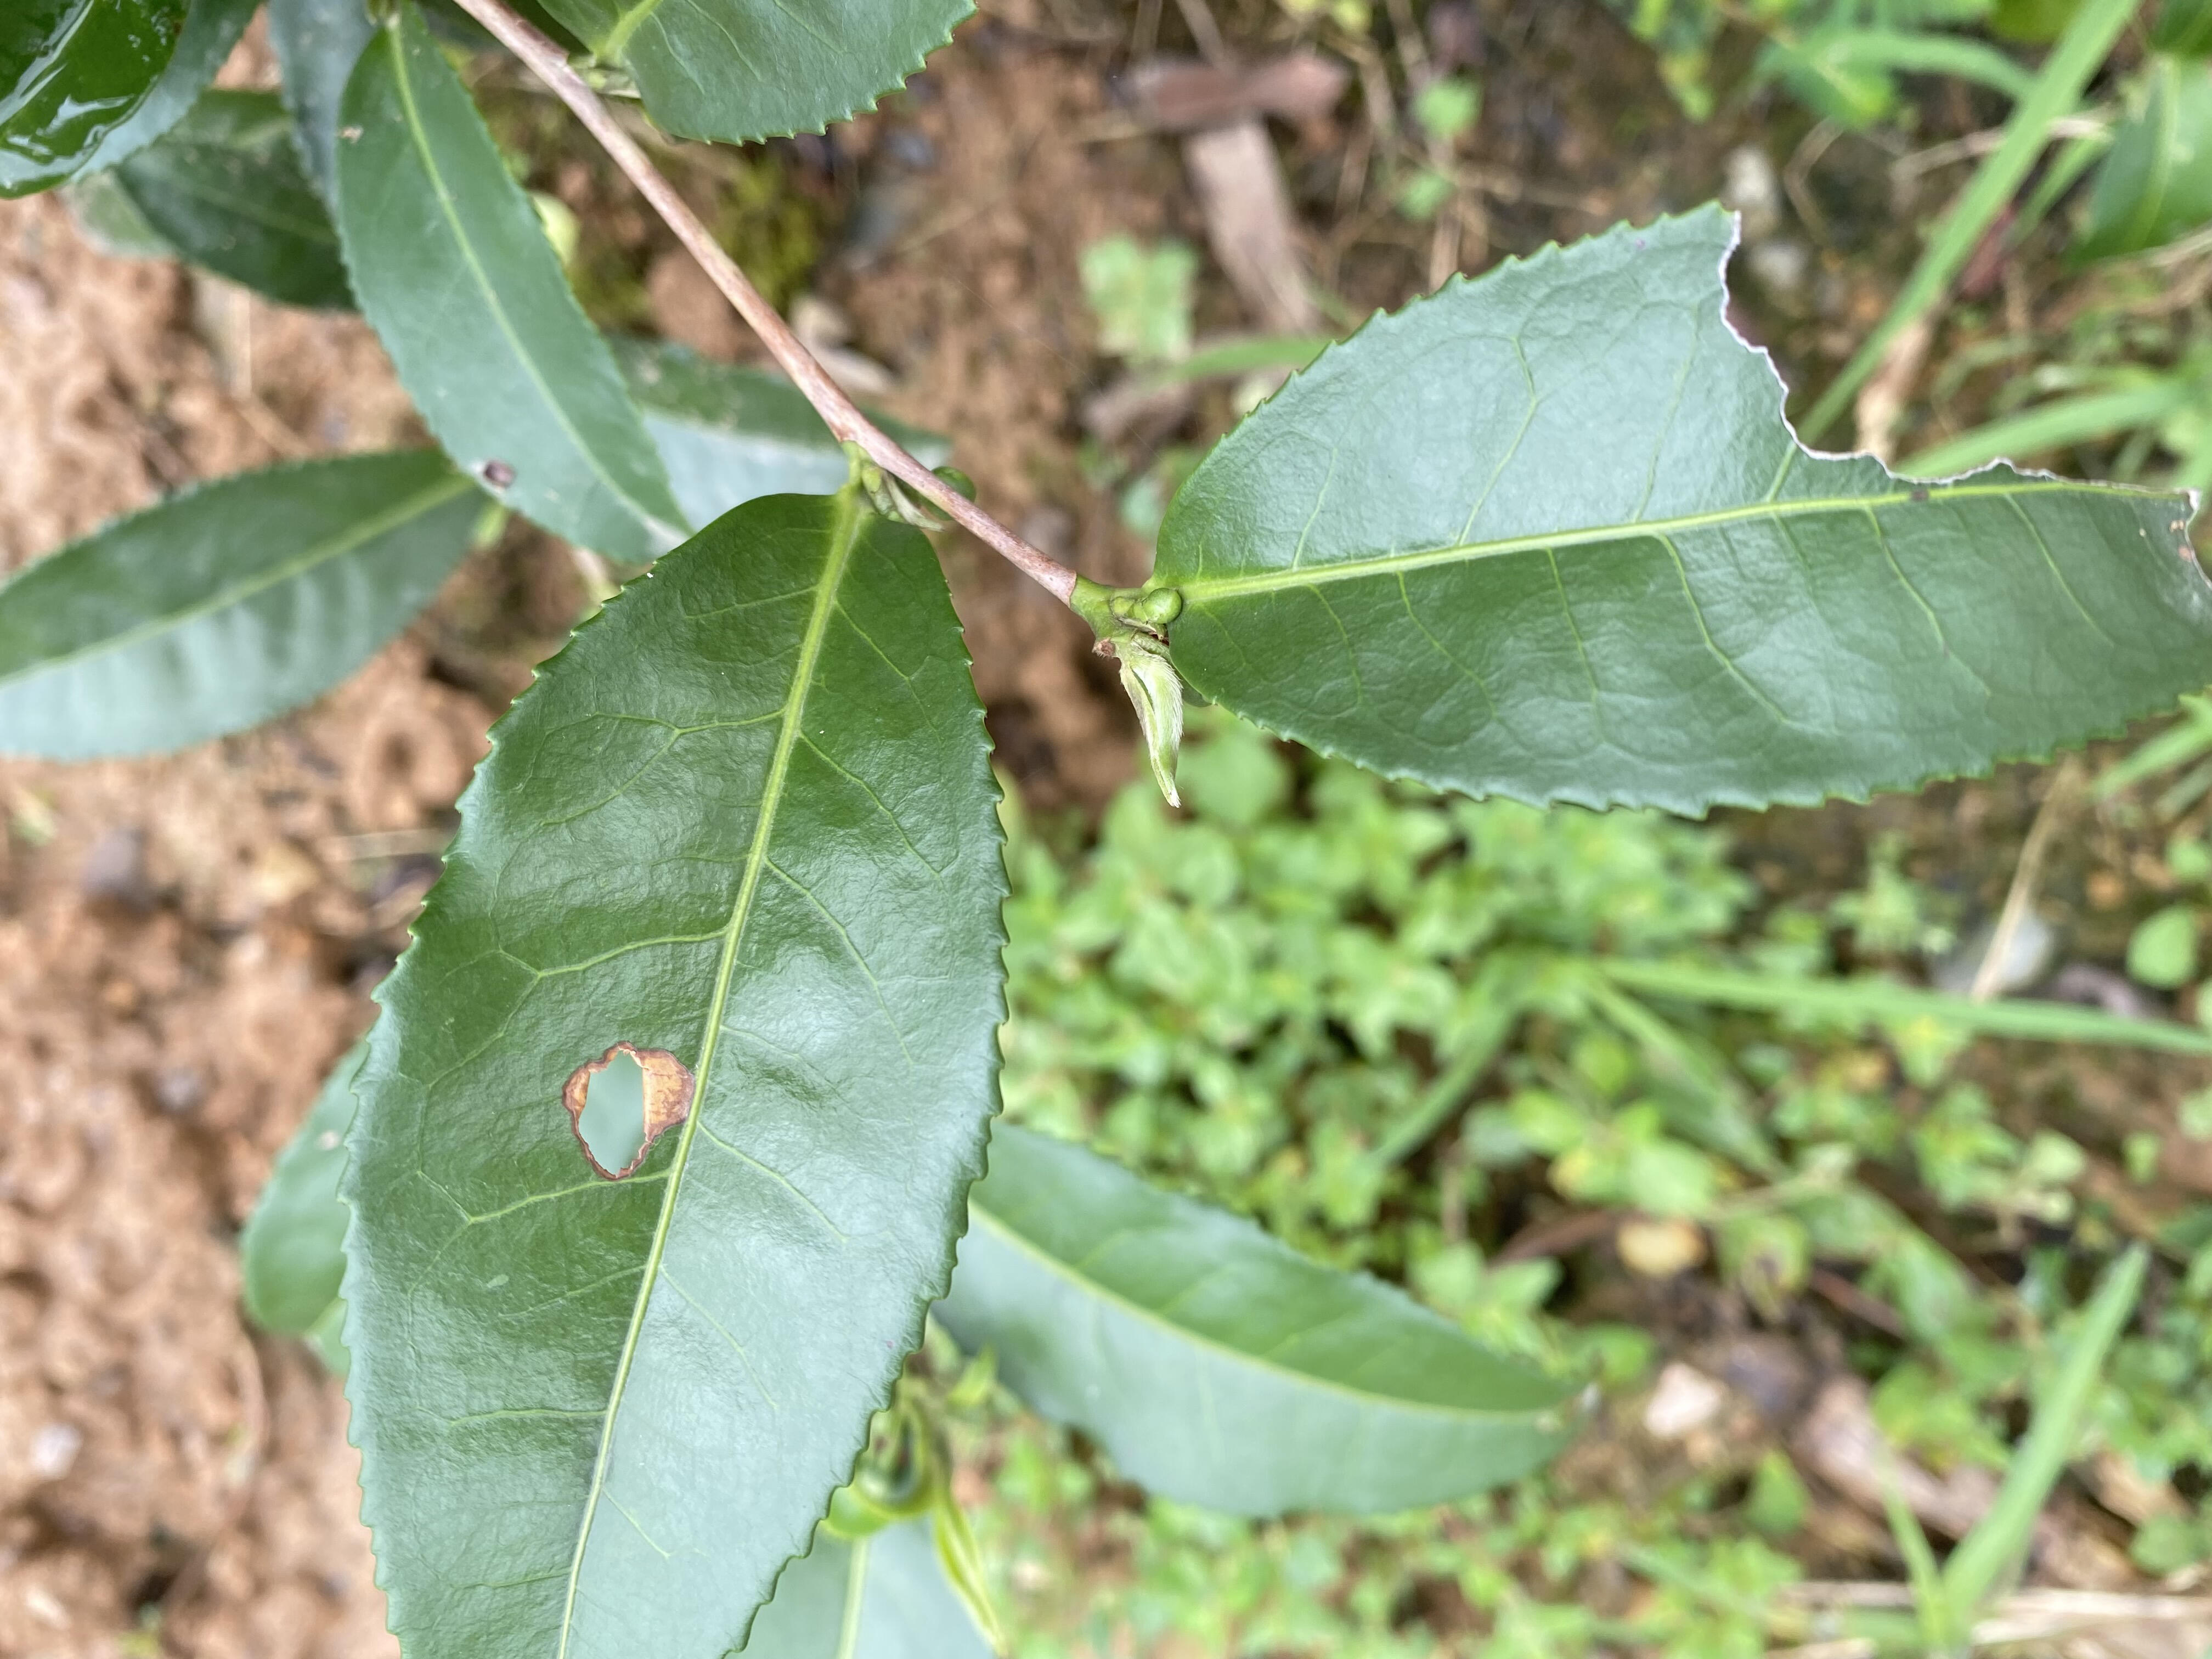chihuo_high: (1151, 197, 2209, 819)
chihuo_low: (340, 490, 1019, 1657)
tanju_low: (334, 21, 690, 563)
